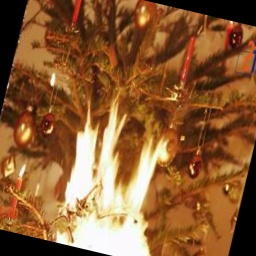fire: (34, 97, 184, 256)
